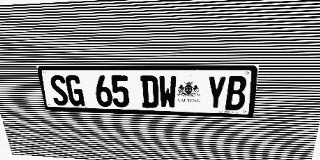5: (110, 75, 130, 107)
6: (93, 75, 113, 107)
B: (225, 76, 247, 110)
D: (140, 75, 159, 108)
G: (65, 75, 85, 106)
S: (49, 75, 69, 106)
W: (158, 75, 177, 109)
Y: (206, 76, 227, 110)
